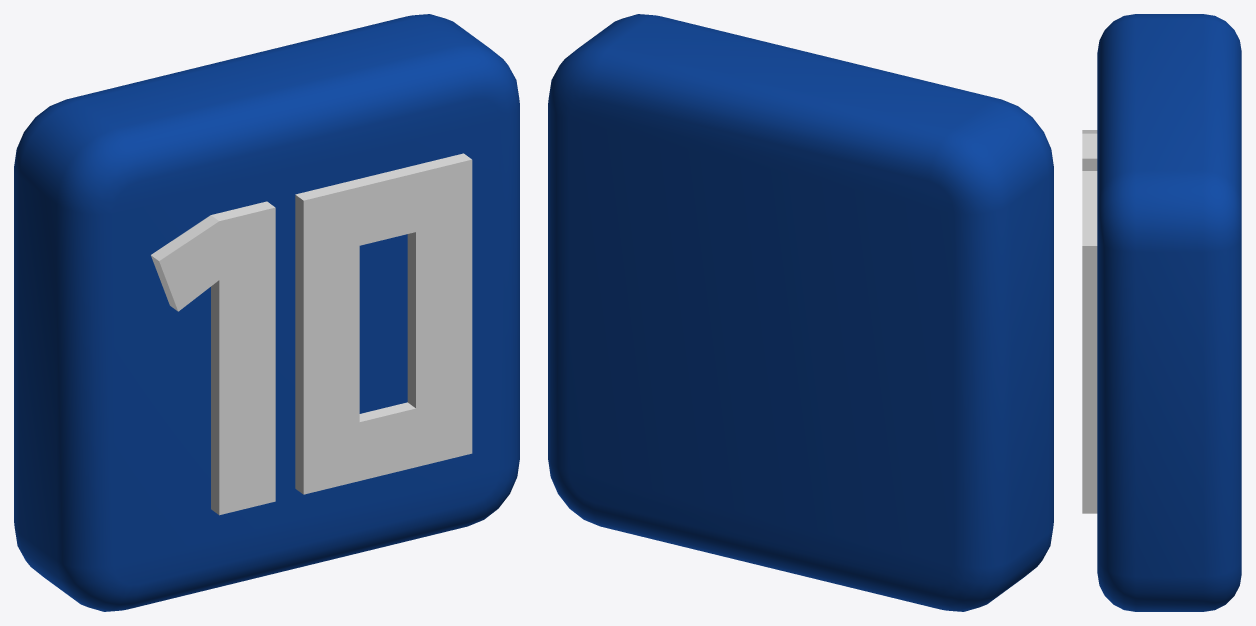
The model's file is keycap_10.gltf.
The picture shows the model from 3 angles, left to right: view 1: azimuth 30°, elevation 25°; view 2: azimuth 150°, elevation 25°; view 3: azimuth 270°, elevation 25°; orthographic projection. The views are drawn at different scales.
Parts seen in each view (by area): view 1: Cube.6588, Cube.6471; view 2: Cube.6588; view 3: Cube.6588, Cube.6471.
Part boxes in pixels (bbox=[...]): Cube.6588: bbox=[14, 14, 519, 611]; Cube.6471: bbox=[151, 153, 472, 515]; Cube.6588: bbox=[548, 14, 1053, 611]; Cube.6588: bbox=[1097, 14, 1241, 611]; Cube.6471: bbox=[1082, 130, 1097, 513].
Bounding box in the file's own units: 2.2 × 2.2 × 0.73.
1 material, 1 textured.
